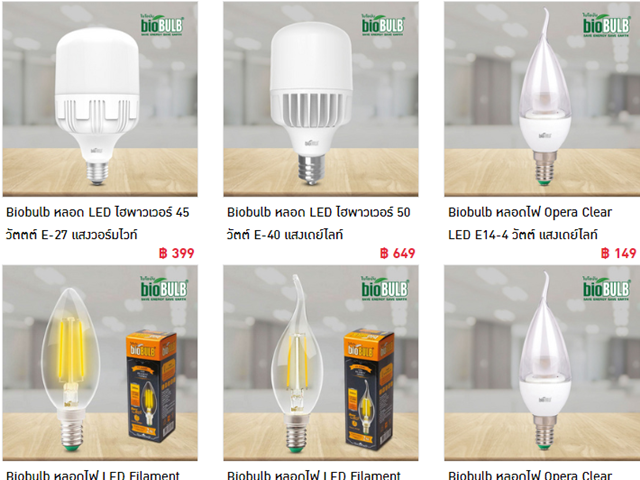Light_bulb: (260, 17, 358, 187), (50, 20, 146, 189), (32, 281, 103, 459), (512, 264, 577, 457), (510, 4, 575, 193), (263, 267, 328, 455)
